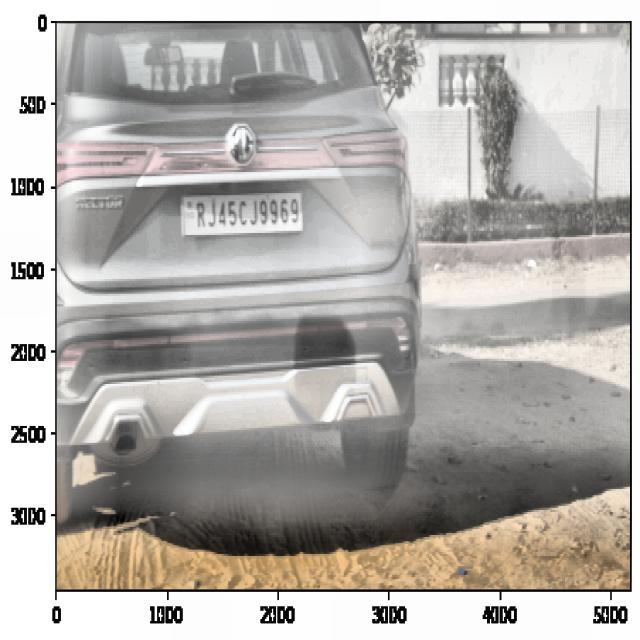license_plate: (182, 192, 304, 235)
